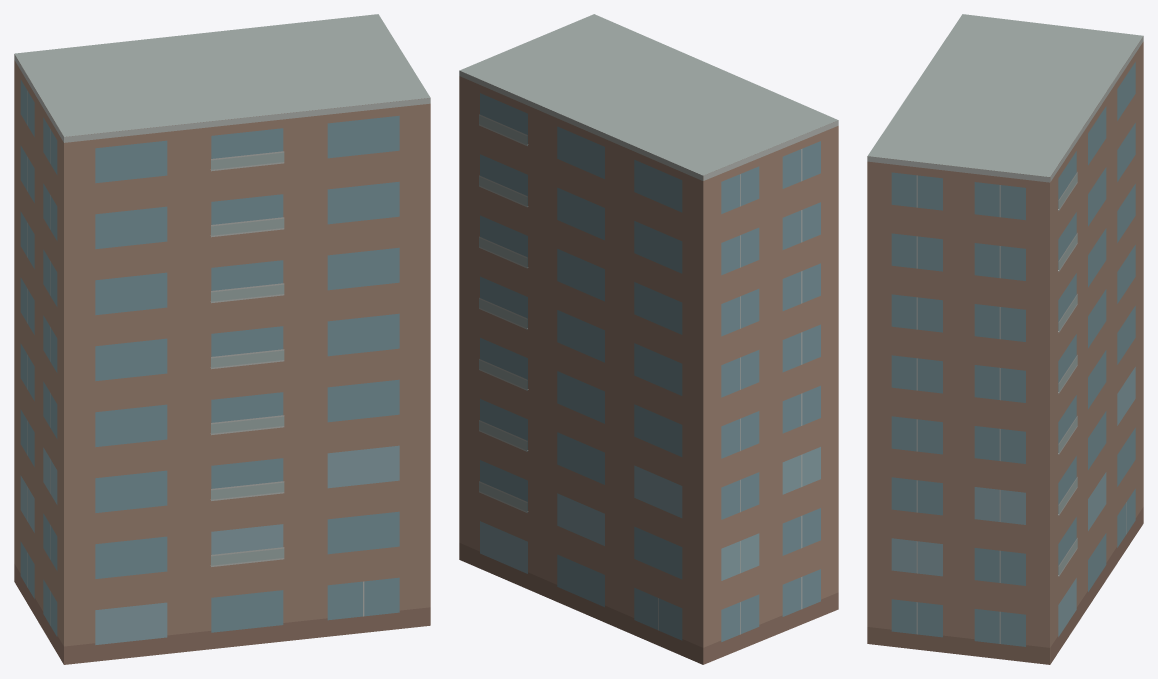
Rendered from survey-upis-33040431.glb.
The picture shows the model from 3 angles, left to right: view 1: azimuth 30°, elevation 25°; view 2: azimuth 150°, elevation 25°; view 3: azimuth 270°, elevation 25°; orthographic projection. The views are drawn at different scales.
Parts seen in each view (by area): view 1: survey-upis-33040431.tmp; view 2: survey-upis-33040431.tmp; view 3: survey-upis-33040431.tmp.
Part boxes in pixels (x1,y1,x2,y2): survey-upis-33040431.tmp: (14, 14, 430, 664); survey-upis-33040431.tmp: (459, 14, 838, 664); survey-upis-33040431.tmp: (867, 14, 1143, 664).
Size of the model in its own units: 15.65 by 21.8 by 11.19.
